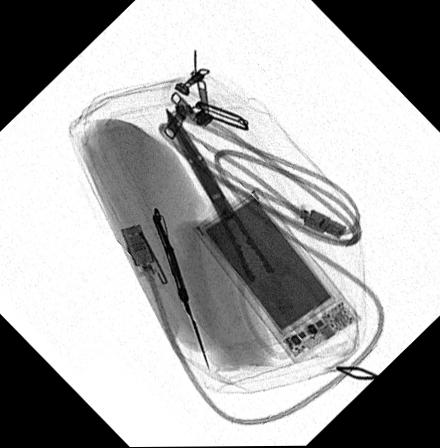Knife: (143, 205, 214, 373)
Powerbank: (192, 185, 363, 363)
Scissors: (162, 103, 336, 361)
